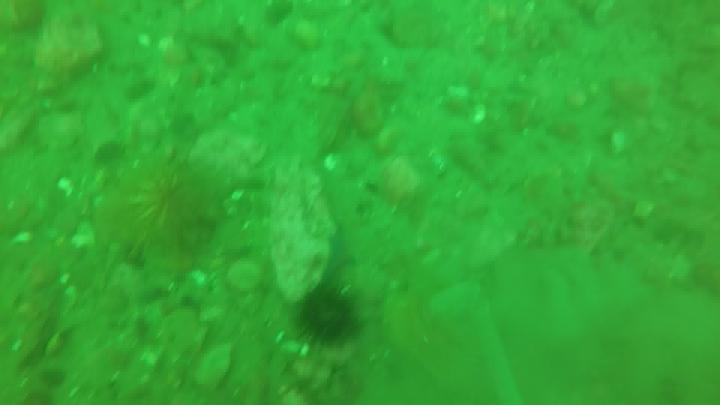echinus: (122, 159, 225, 252), (299, 284, 357, 354)
scallop: (471, 104, 490, 127)
